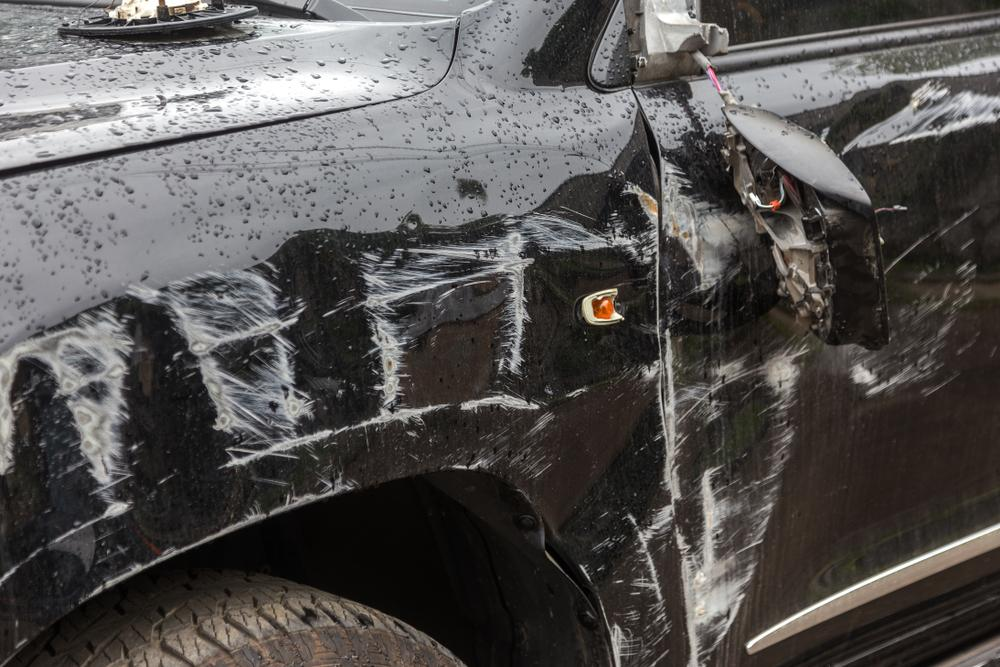scratch: (0, 178, 679, 667), (658, 156, 814, 667), (855, 80, 1000, 401)
